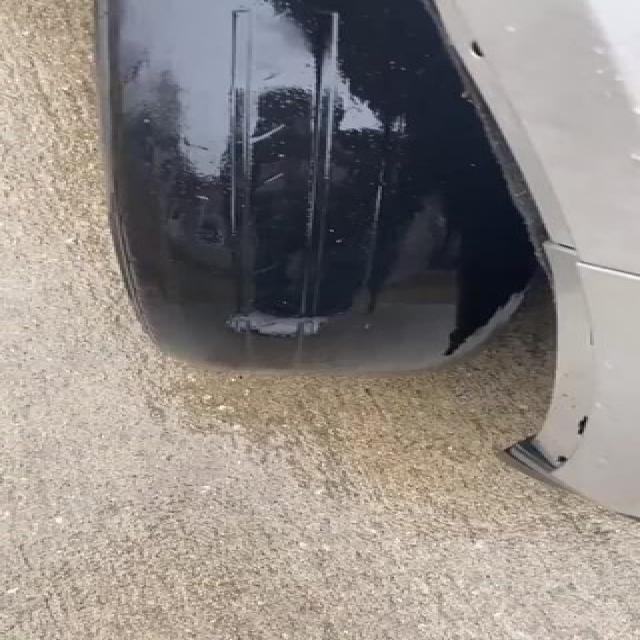Flat spots: (126, 0, 448, 375)
